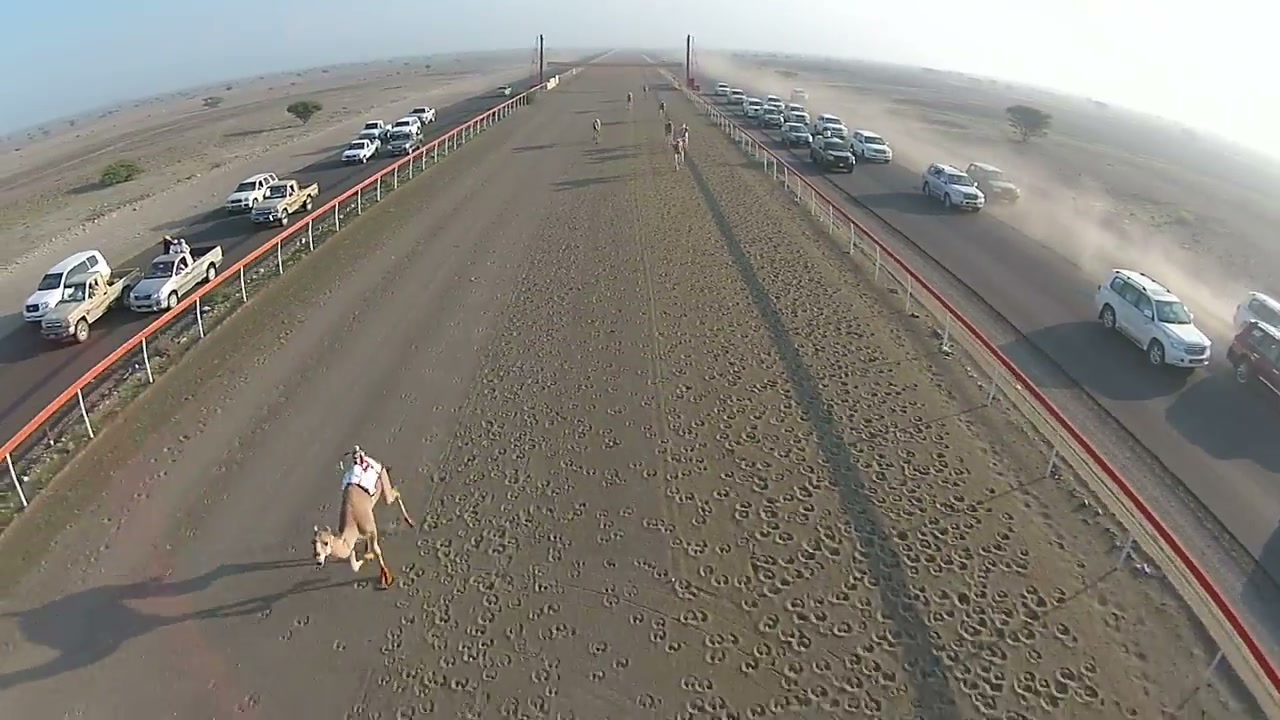animal_footprint: (361, 124, 1211, 719)
